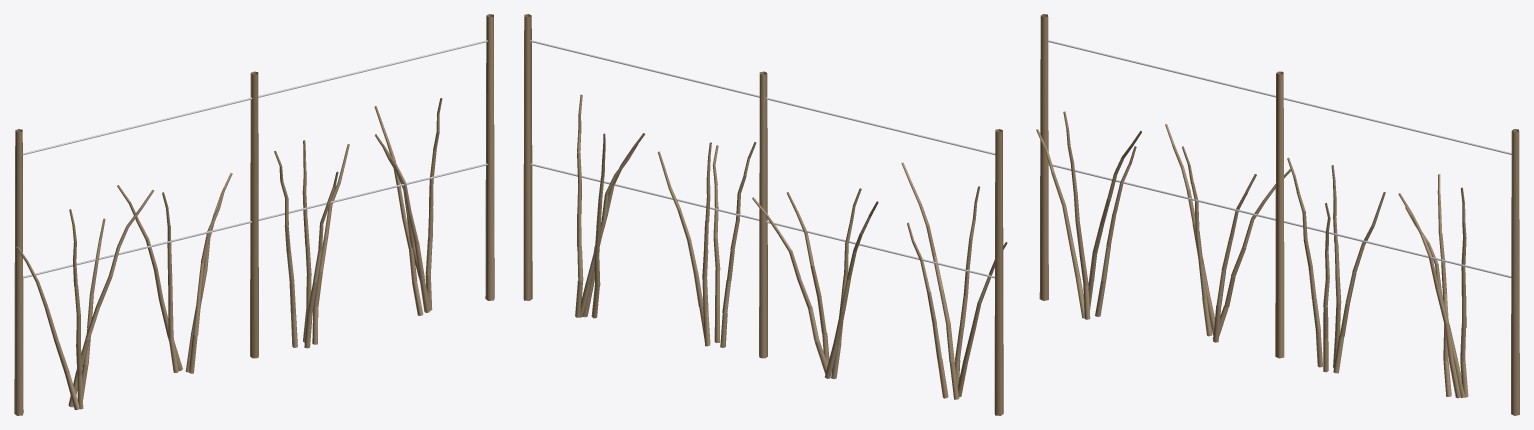
Rendered from framboise_repos.glb.
3 views of the same model, side by side, from view 1: azimuth 30°, elevation 25°; view 2: azimuth 150°, elevation 25°; view 3: azimuth 330°, elevation 25° (orthographic).
Parts seen in each view (by area): view 1: Framboise_Cannes, Framboise_Piquets, Framboise_Fil; view 2: Framboise_Cannes, Framboise_Piquets, Framboise_Fil; view 3: Framboise_Cannes, Framboise_Piquets, Framboise_Fil.
Part boxes in pixels (x1,y1,x2,y2): Framboise_Cannes: (16,98,442,409); Framboise_Piquets: (14,14,494,415); Framboise_Fil: (22,40,487,278); Framboise_Cannes: (575,94,1007,399); Framboise_Piquets: (523,14,1003,415); Framboise_Fil: (530,40,995,278); Framboise_Cannes: (1036,111,1468,398); Framboise_Piquets: (1039,14,1519,415); Framboise_Fil: (1047,40,1511,277).
Size of the model in its own units: 2.04 by 1.15 by 0.2875.
